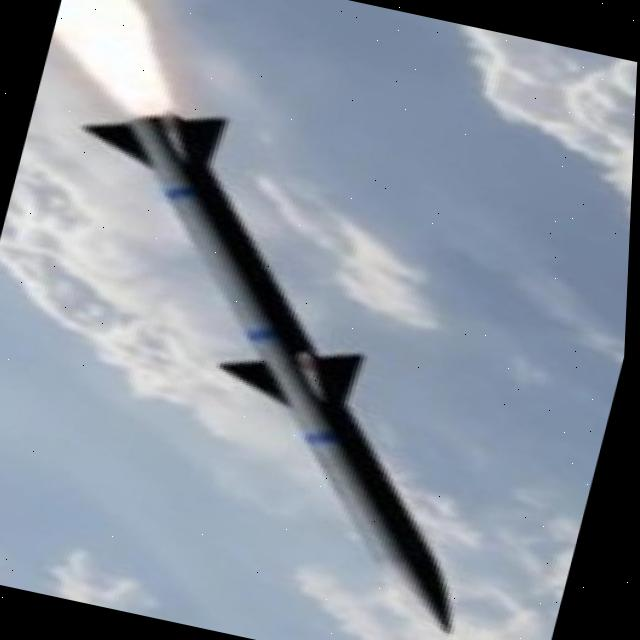missile: (6, 97, 581, 622)
